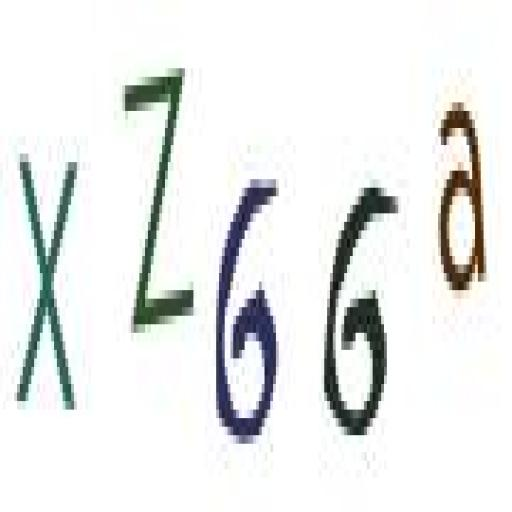6: (313, 162, 403, 458), (208, 147, 285, 470)
X: (8, 134, 89, 420)
Z: (116, 58, 200, 336)
a: (432, 77, 492, 318)
